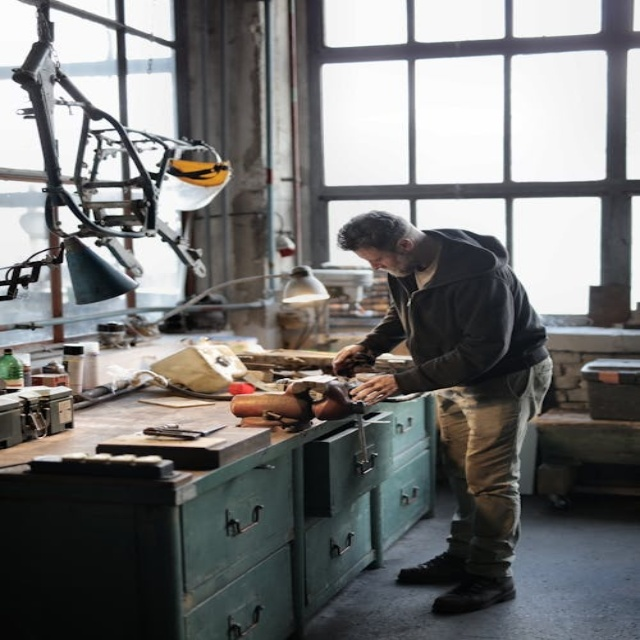Sin_gafas: (362, 251, 392, 267)
Sin_guantes: (349, 372, 403, 402), (330, 343, 373, 377)
Sin_mascara: (374, 263, 403, 276)
